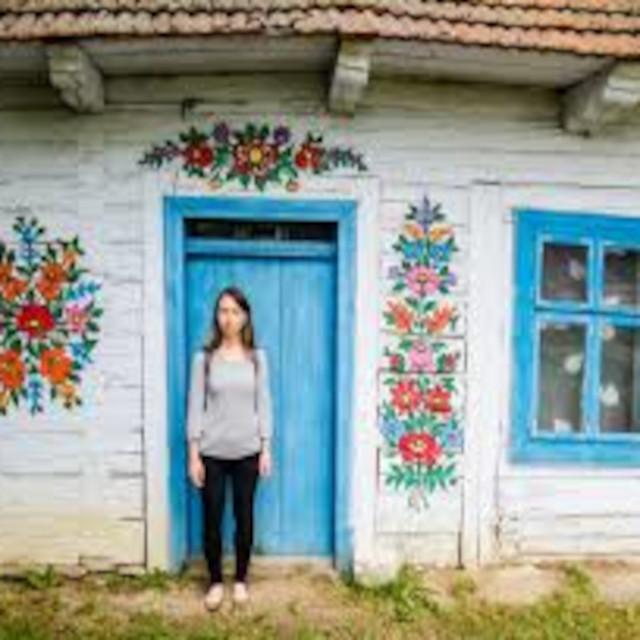kobieta: (175, 283, 278, 606)
